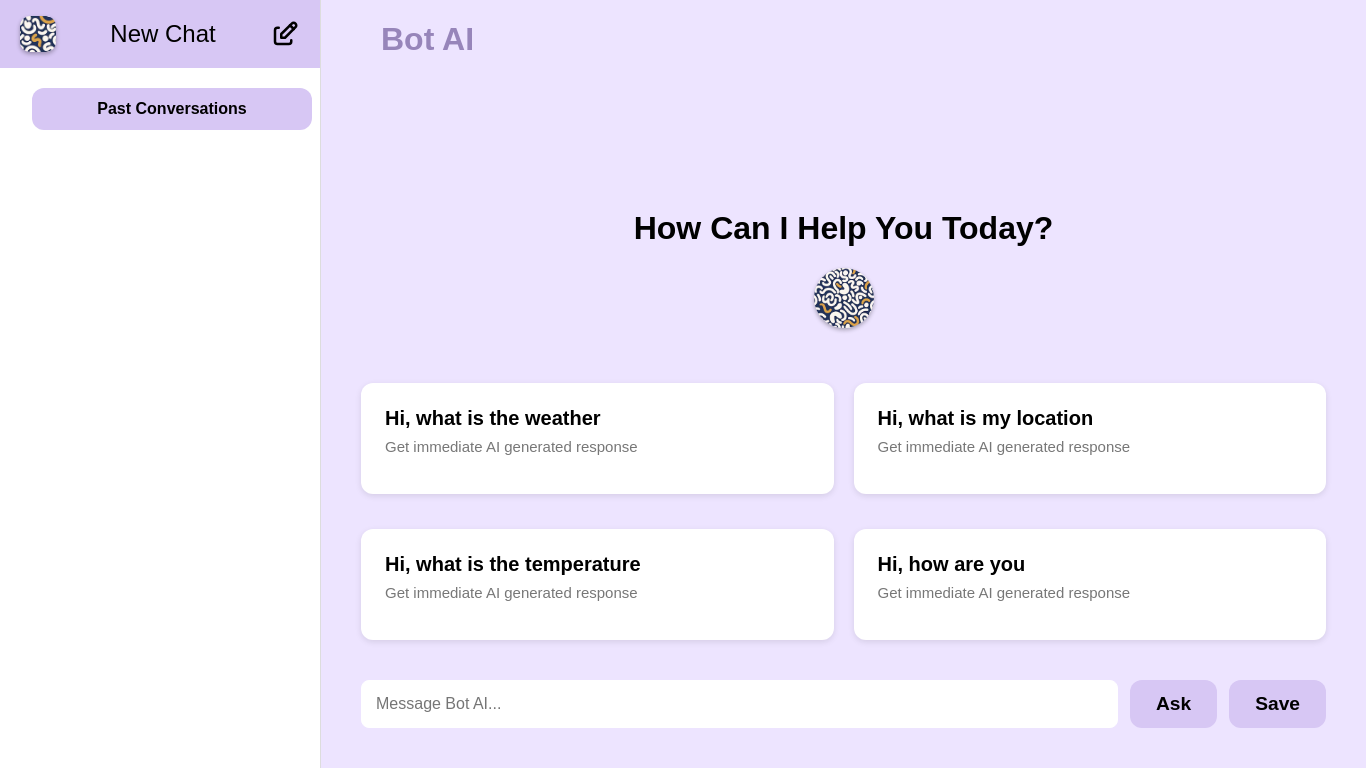
Test: Bot AI Application › Should show valid message if the question is present in the static JSON data
The image size is (1366, 768).
In the field with placeholder "Message Bot AI...": (740, 704) [361,680,1118,728], type "Can you explain RESTful APIs?"
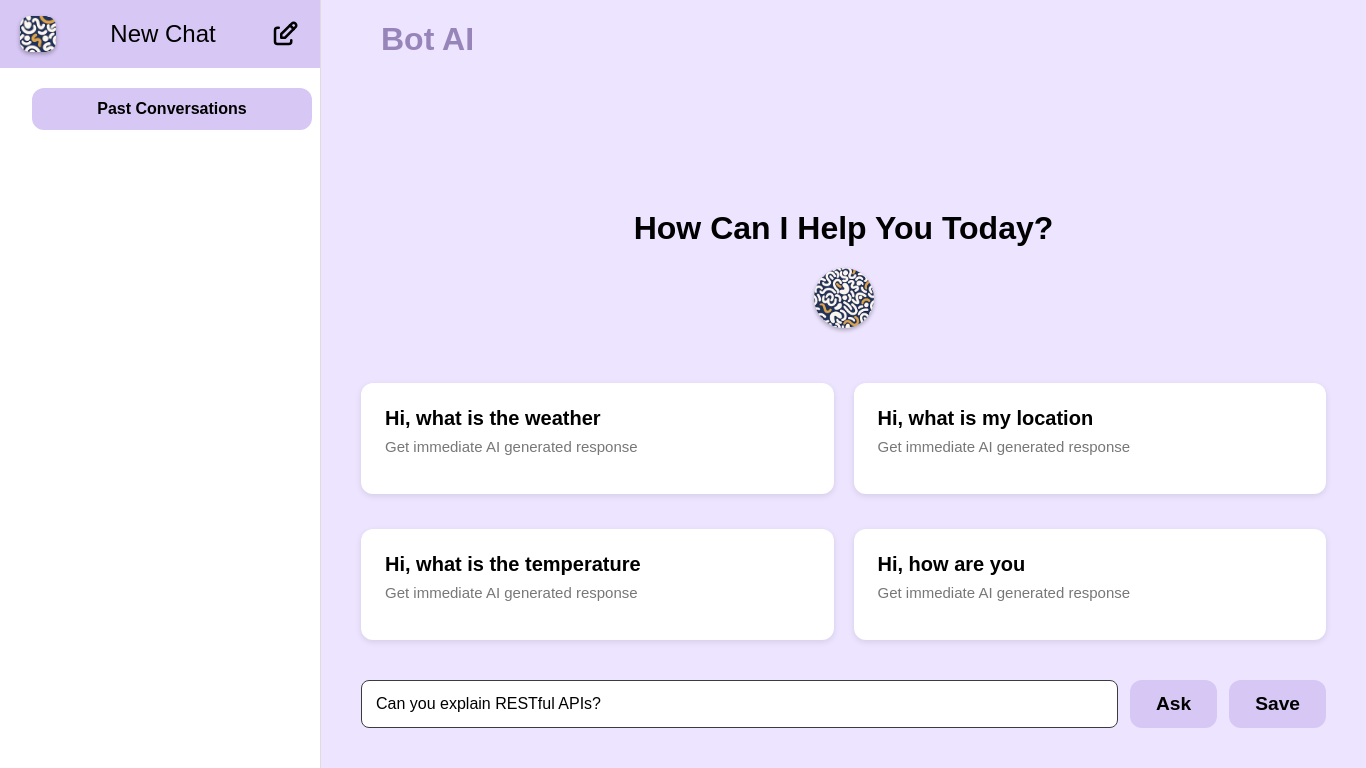
Click the submit button: click(1174, 704) [1130,680,1217,728]
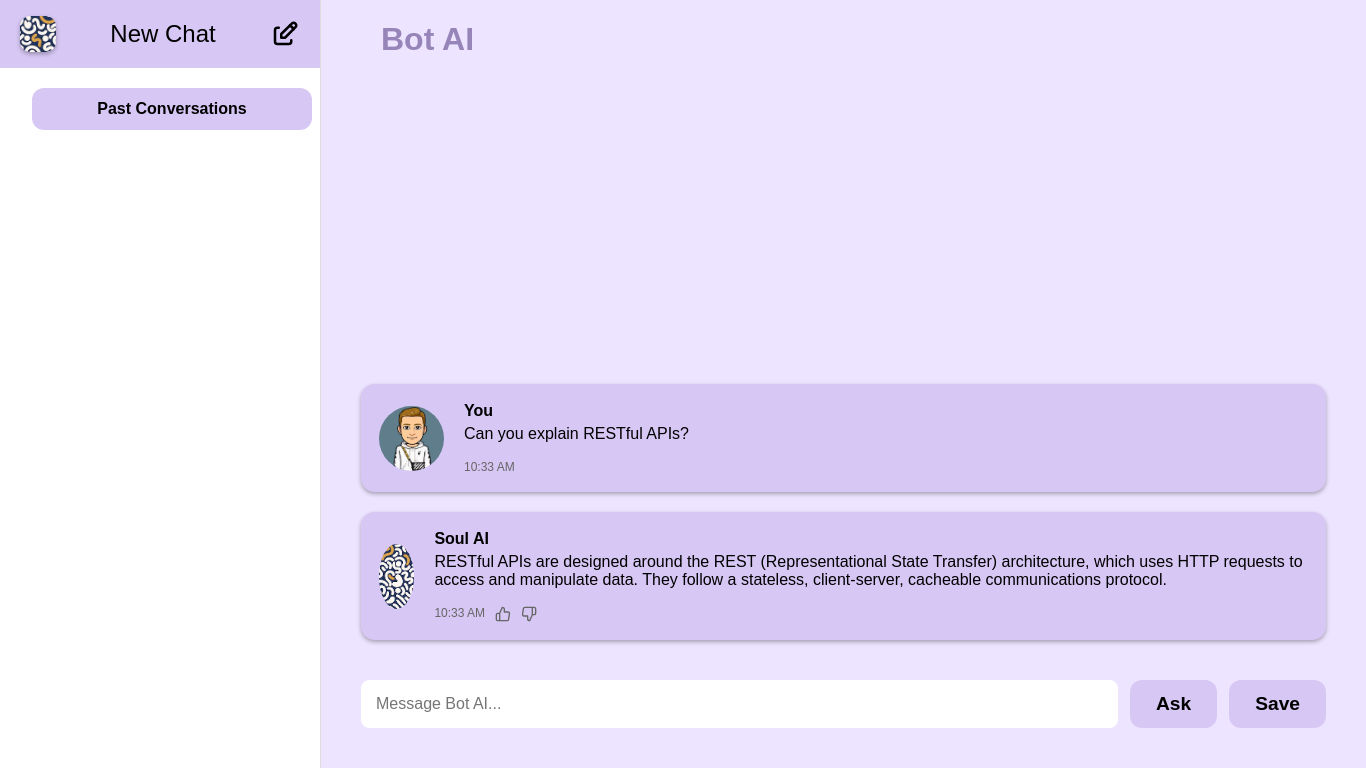
expect the text "RESTful APIs are designed around the REST (Representational State Transfer) architecture, which uses HTTP requests to ac" is shown: met, box [434,553,1302,588]
